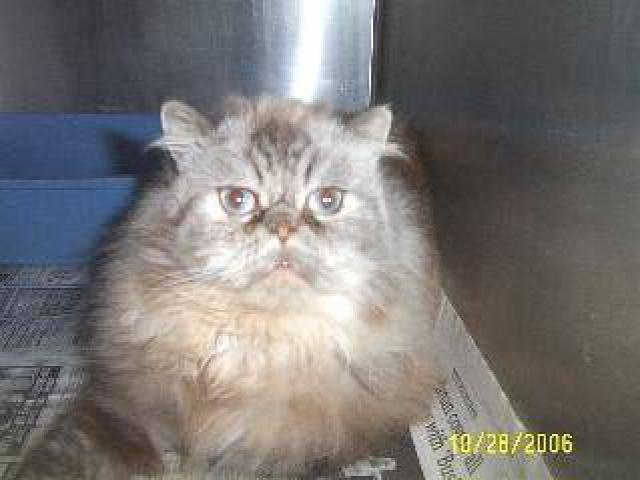cat: (8, 83, 466, 479)
